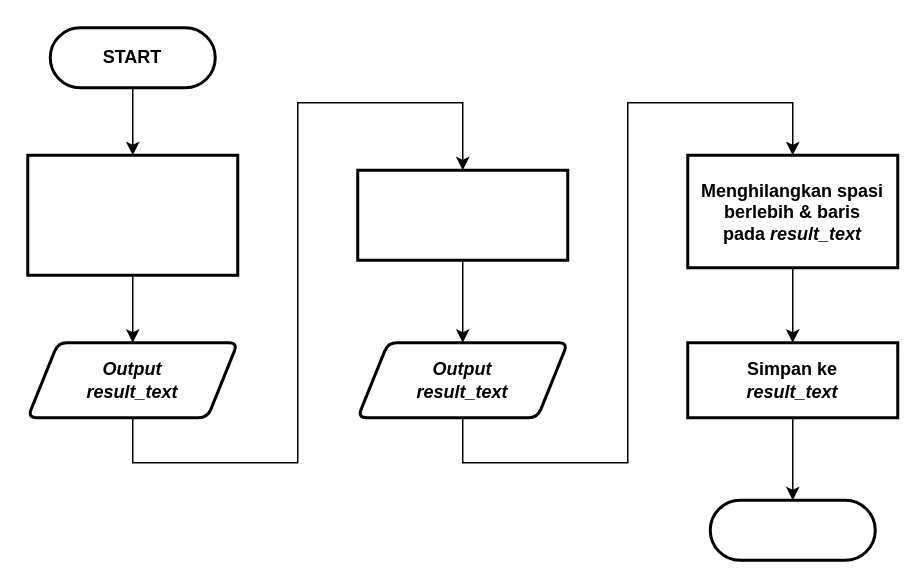
This 924x587 diagram has some shape labels left out. The centre of each missing label's shape, as x and y in pixels:
"END" goes at point 792,529.
"Menghilangkan tanda baca pada result_text" goes at point 462,214.
"Menghilangkan URL, Mention, Hastag & Nomor pada result_text" goes at point 132,214.
